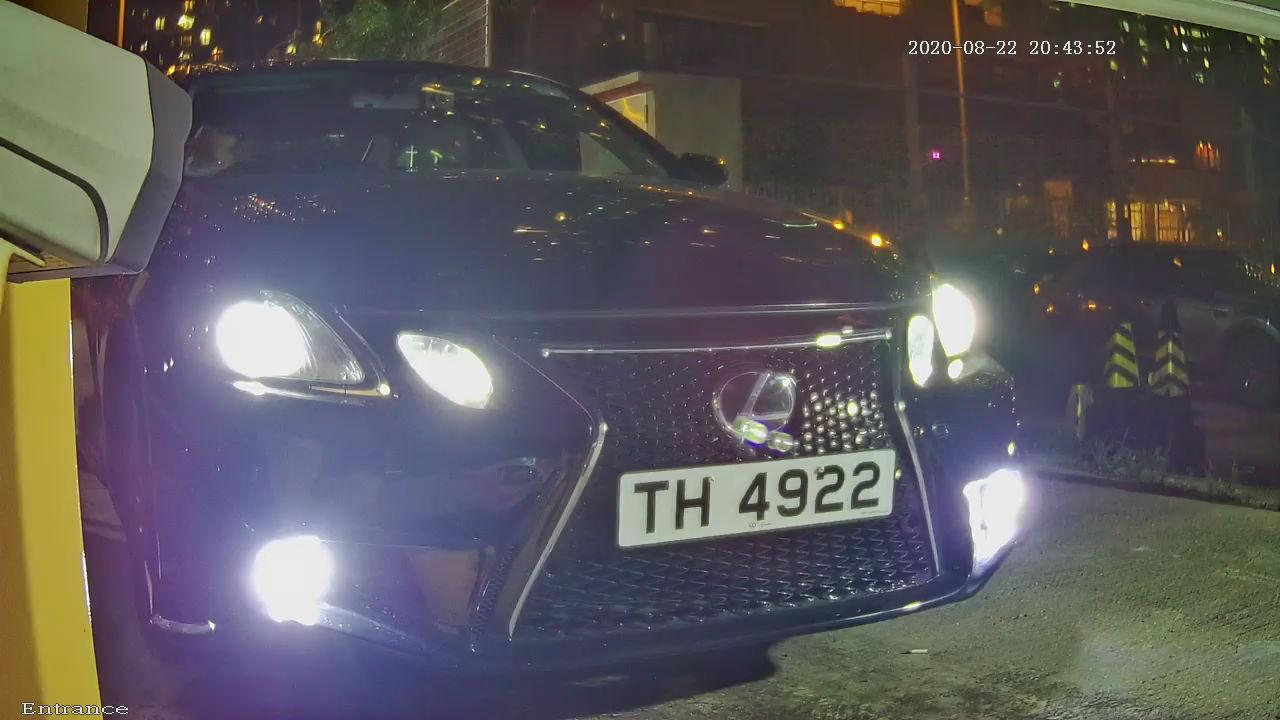Car: (52, 1, 1115, 720)
License Plate: (579, 409, 922, 586)
